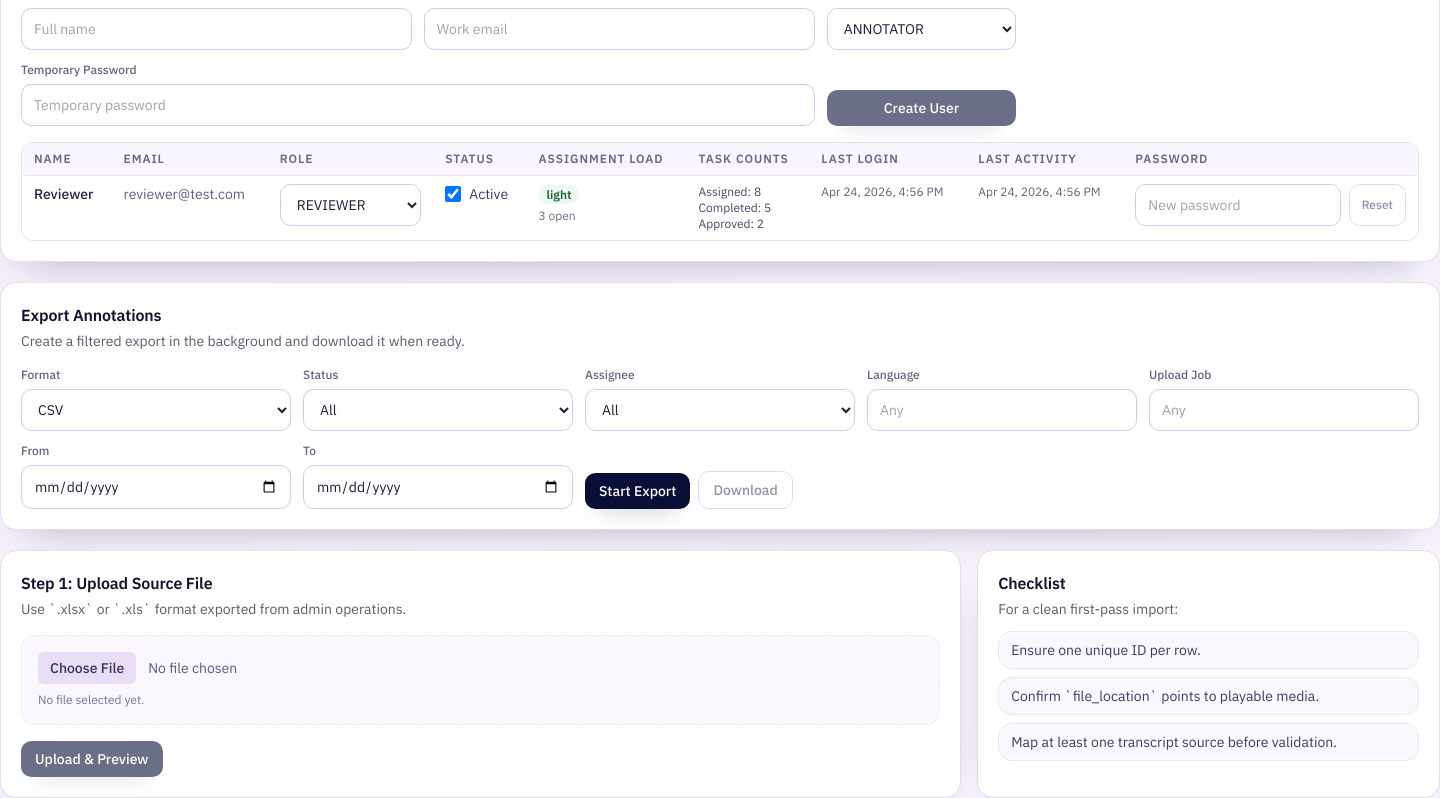
Test: AdminUploadPage async export › enqueues exports with all filter fields
(page scrolled)
Expected: the heading "Export Annotations" is shown, [21,305,161,325]
Select "XLSX" in the dropdown labelled "Format" at (156, 410), box [21,389,291,431]
Select "Approved" in the dropdown labelled "Status" at (438, 410), box [303,389,573,431]
Select "Reviewer" in the dropdown labelled "Assignee" at (720, 410), box [585,389,855,431]
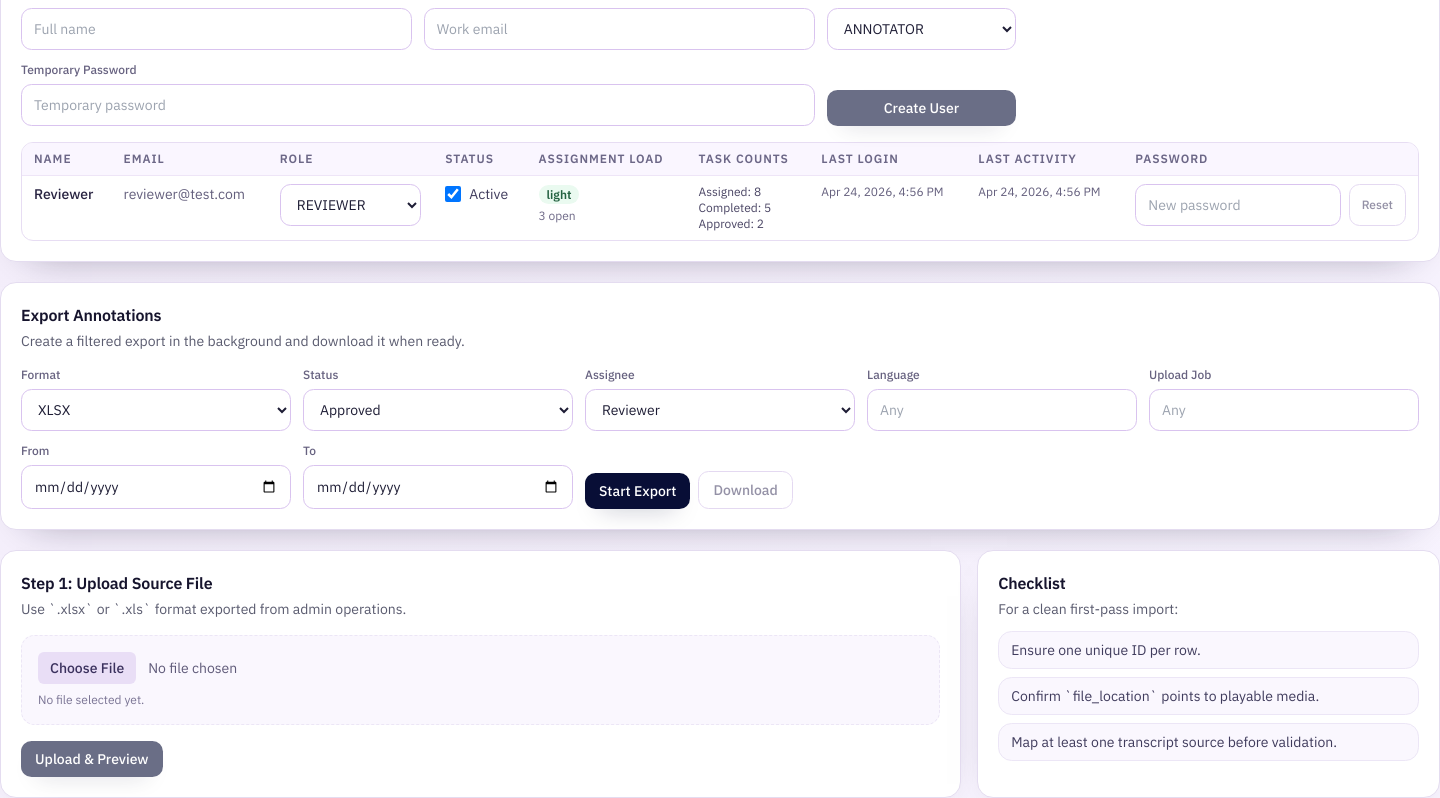
Type "en" into the field labelled "Language" at (1002, 410), box [867,389,1137,431]
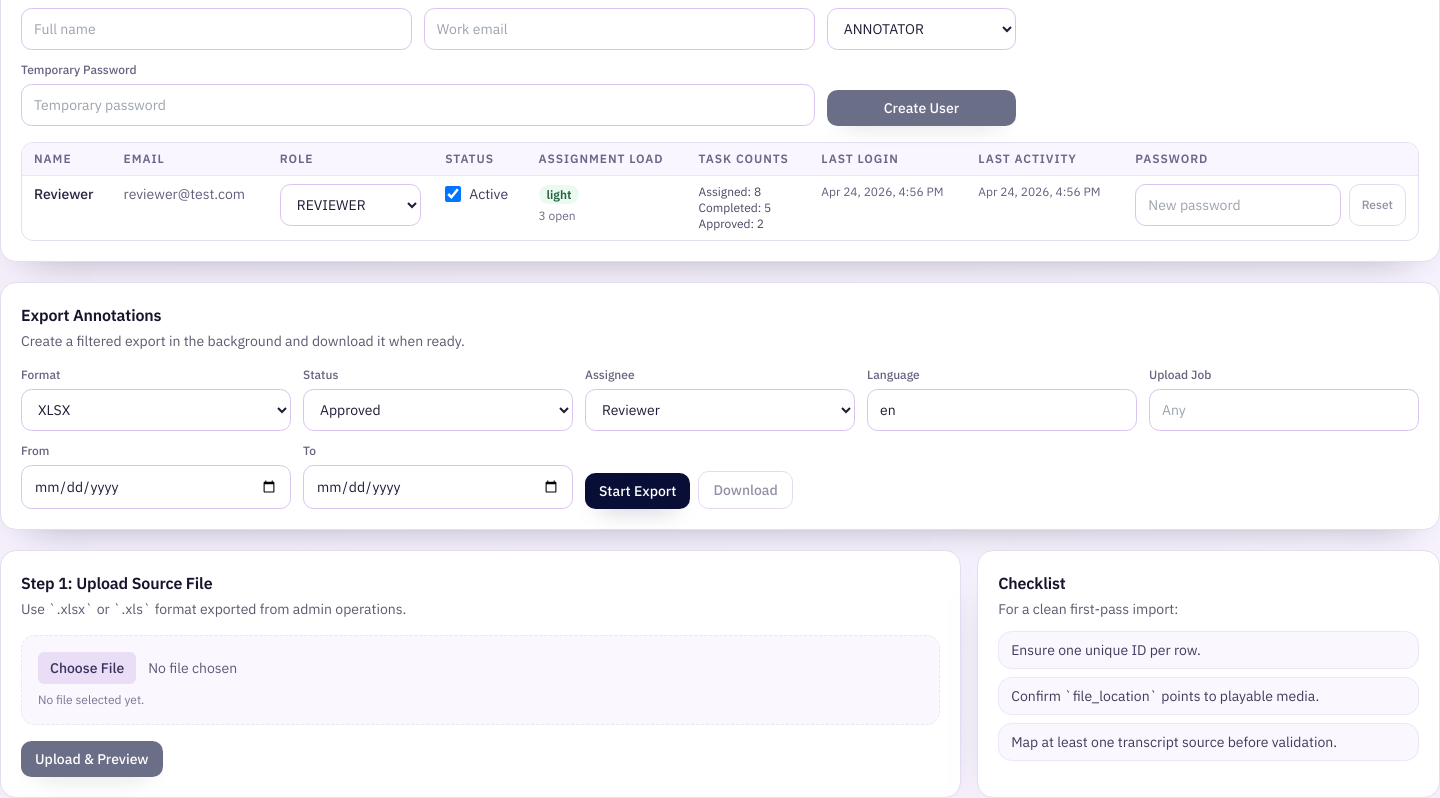
Type "upload-1" into the field labelled "Upload Job" at (1284, 410), box [1149,389,1419,431]
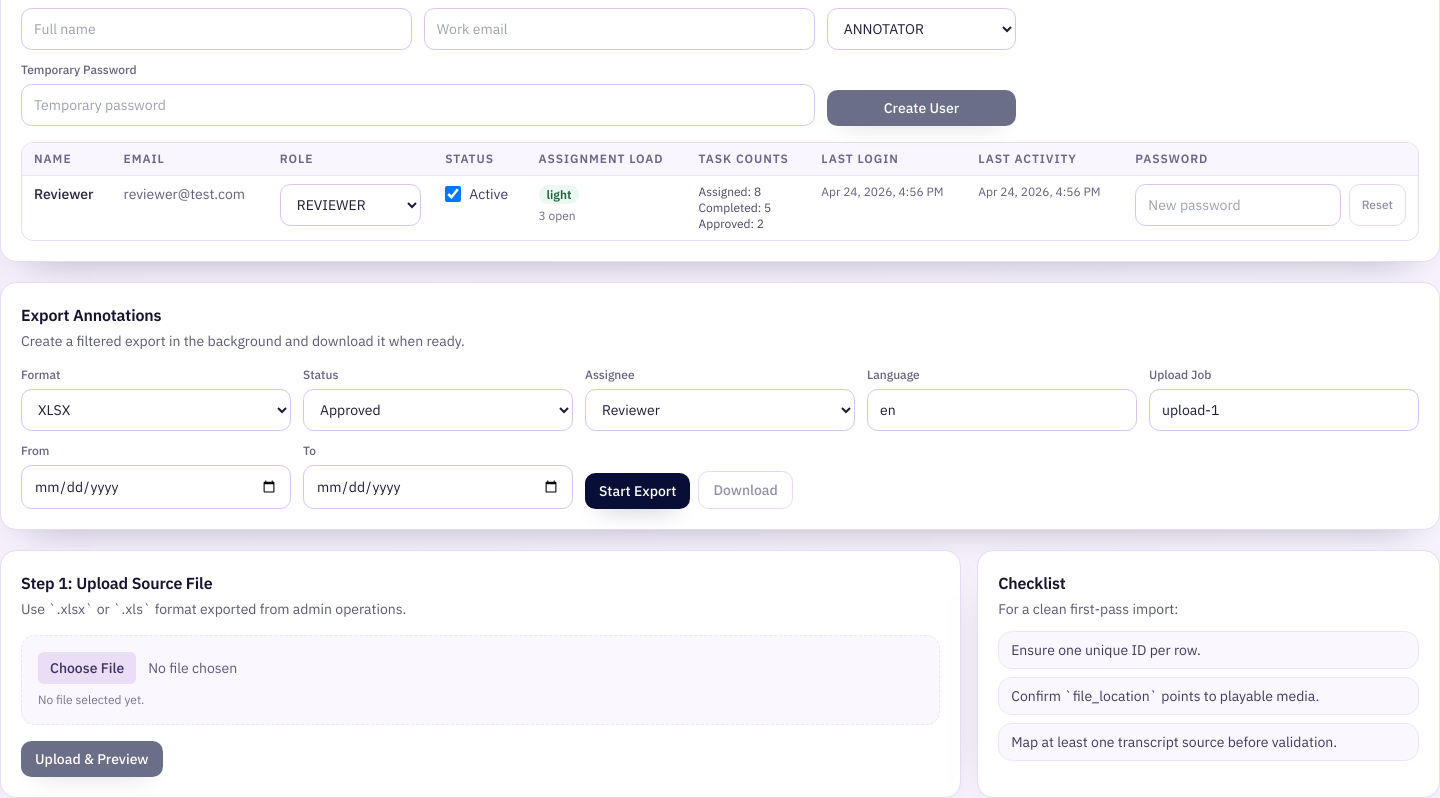
Type "2026-04-01" into the date field labelled "From" at (156, 487), box [21,465,291,509]
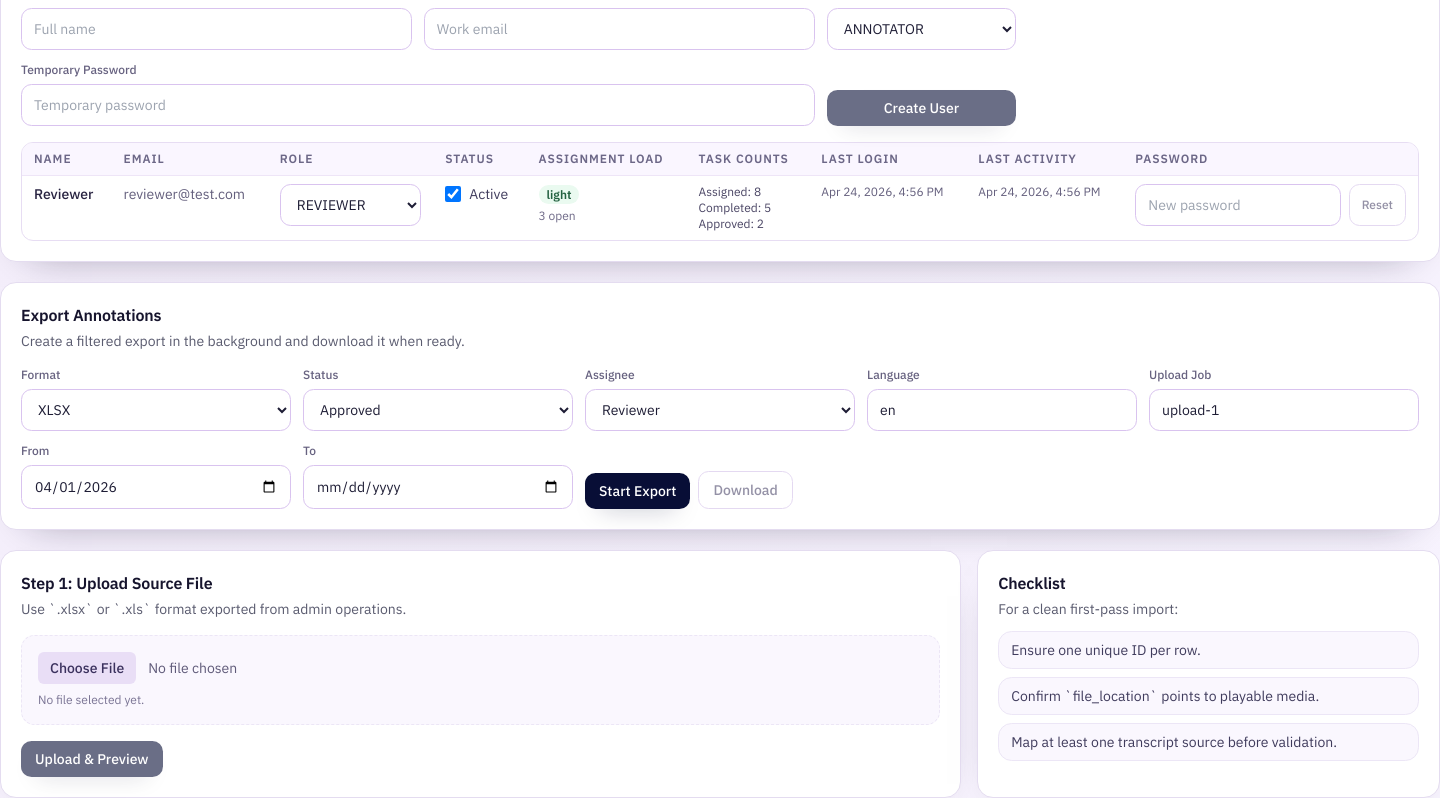
Type "2026-04-24" into the date field labelled "To" at (438, 487), box [303,465,573,509]
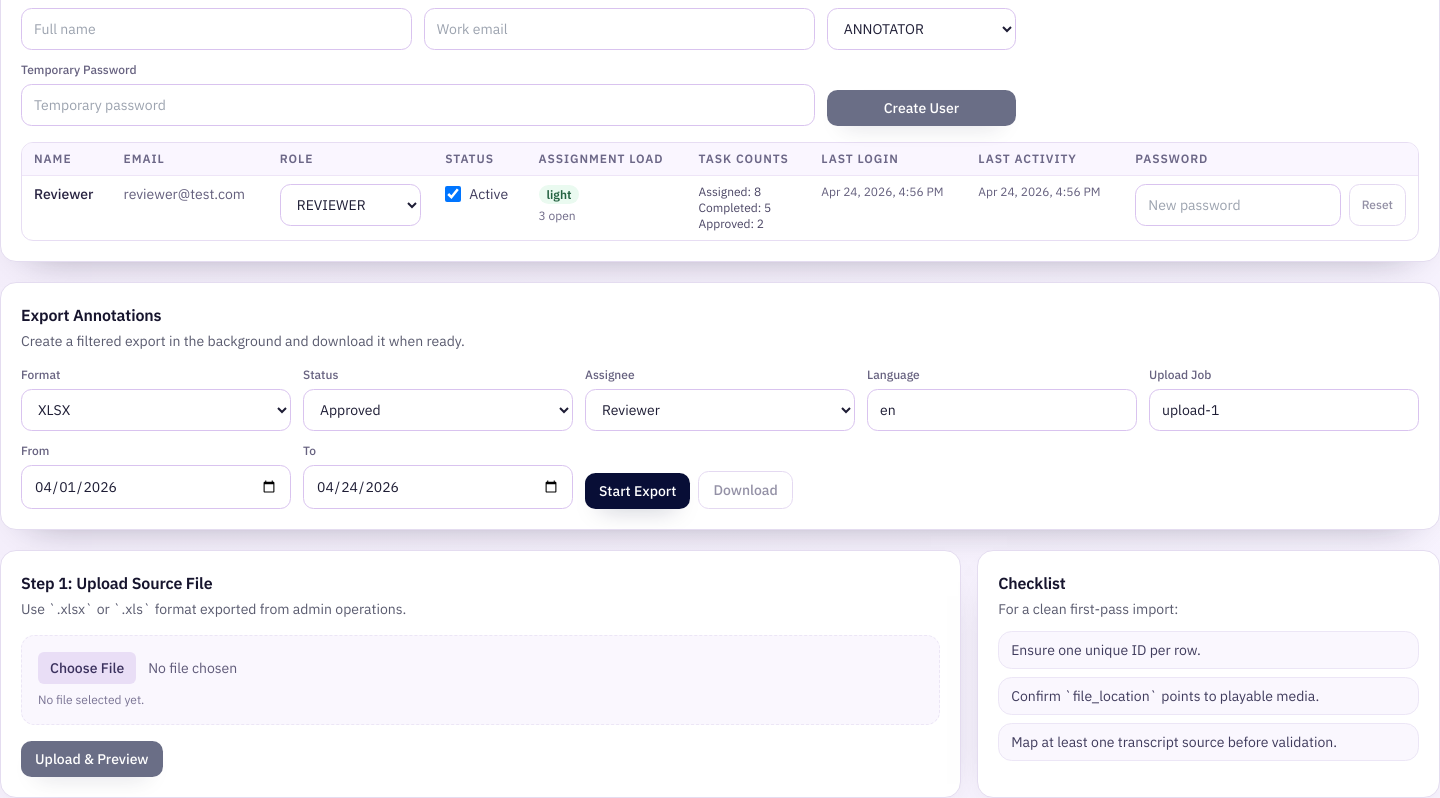
Click the button "Start Export" at (638, 491), box [585,473,690,509]
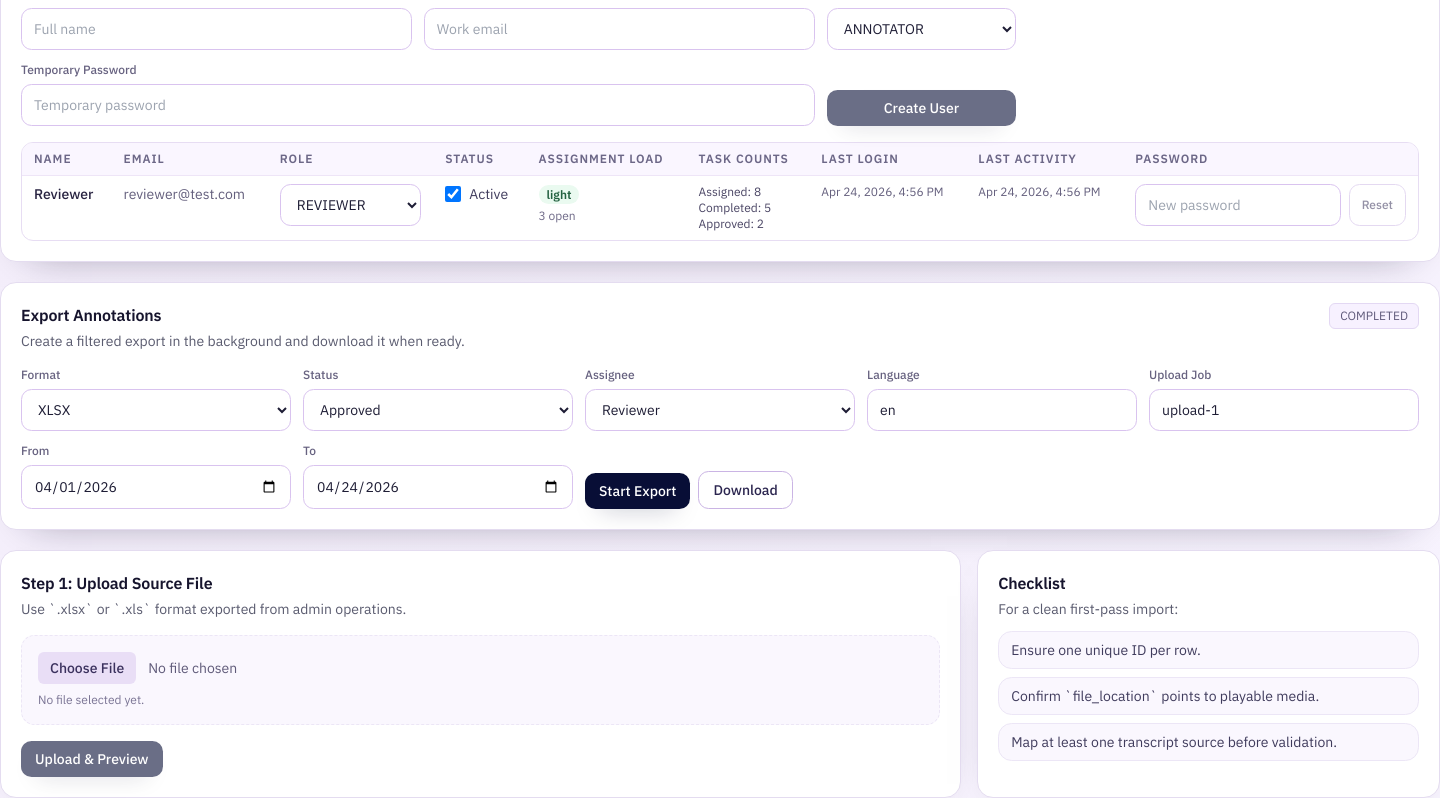
Expected: the text "COMPLETED" is shown, [1329,303,1419,329]
